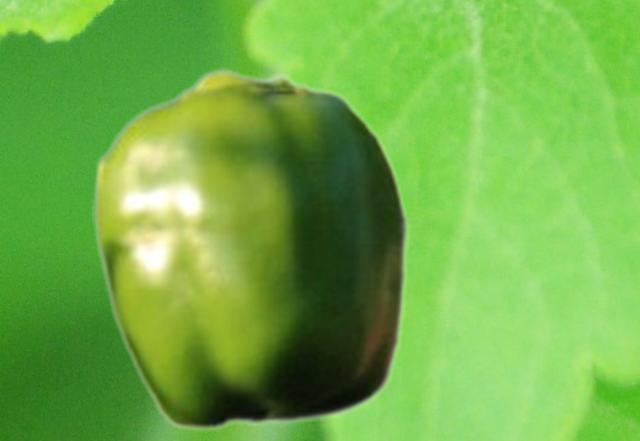bell_pepper: (92, 67, 409, 431)
